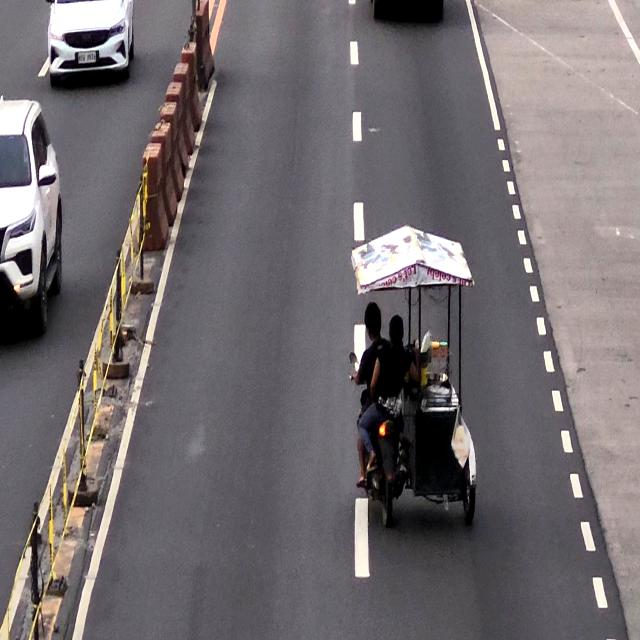Tricycle: (349, 232, 483, 519)
